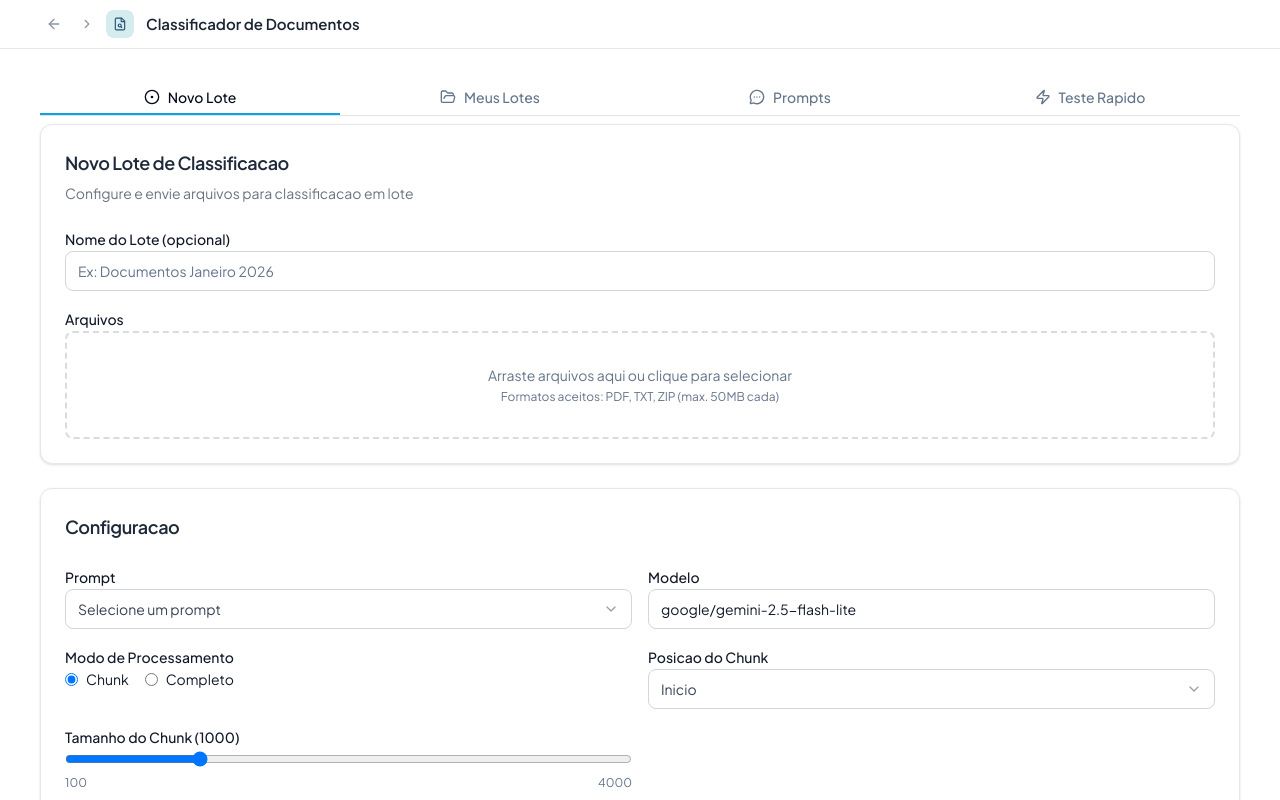
Test case: ClassificadorPage › deve mostrar aba Prompts com botao Novo Prompt quando clicada
This screenshot has width=1280, height=800.
Step 1. Click the tab "Prompts" → x=790, y=98, box [640,81,940,115]
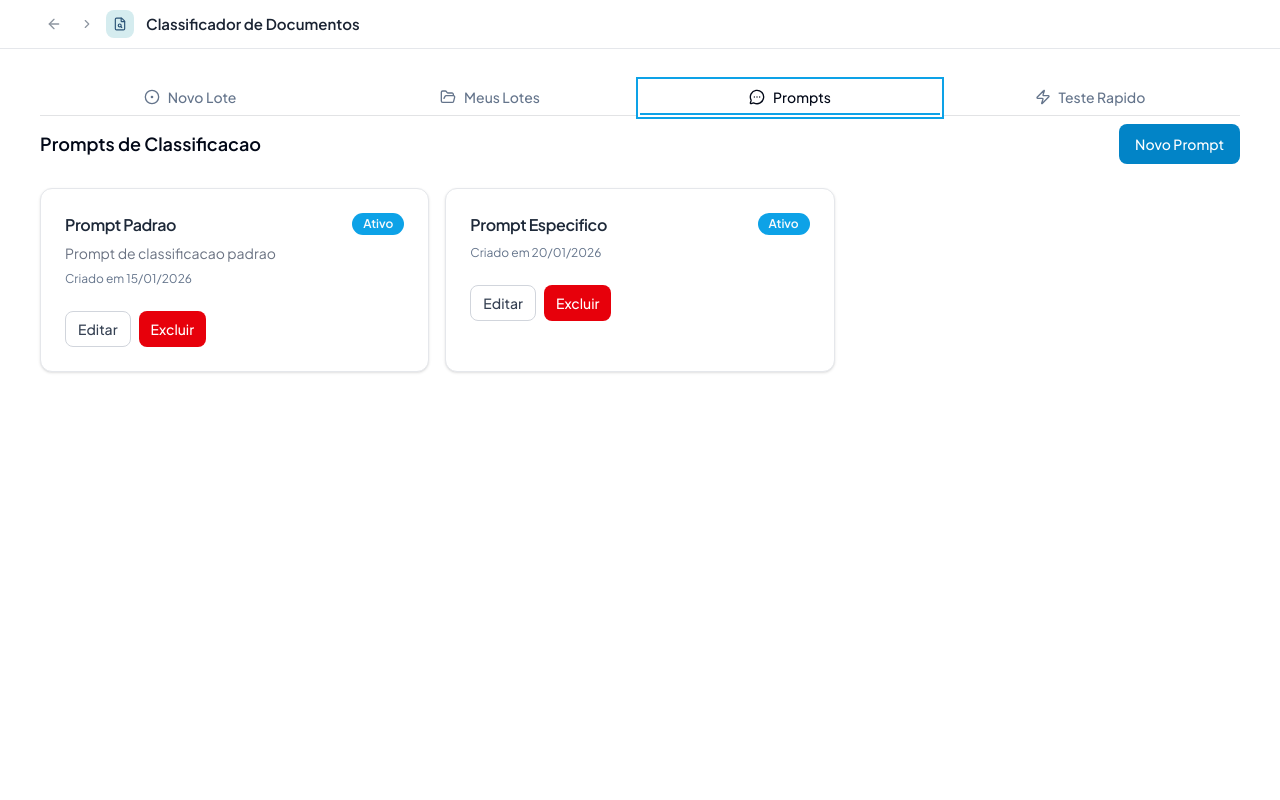
Check: the button "Novo Prompt" is shown, box [1119,124,1240,164]
